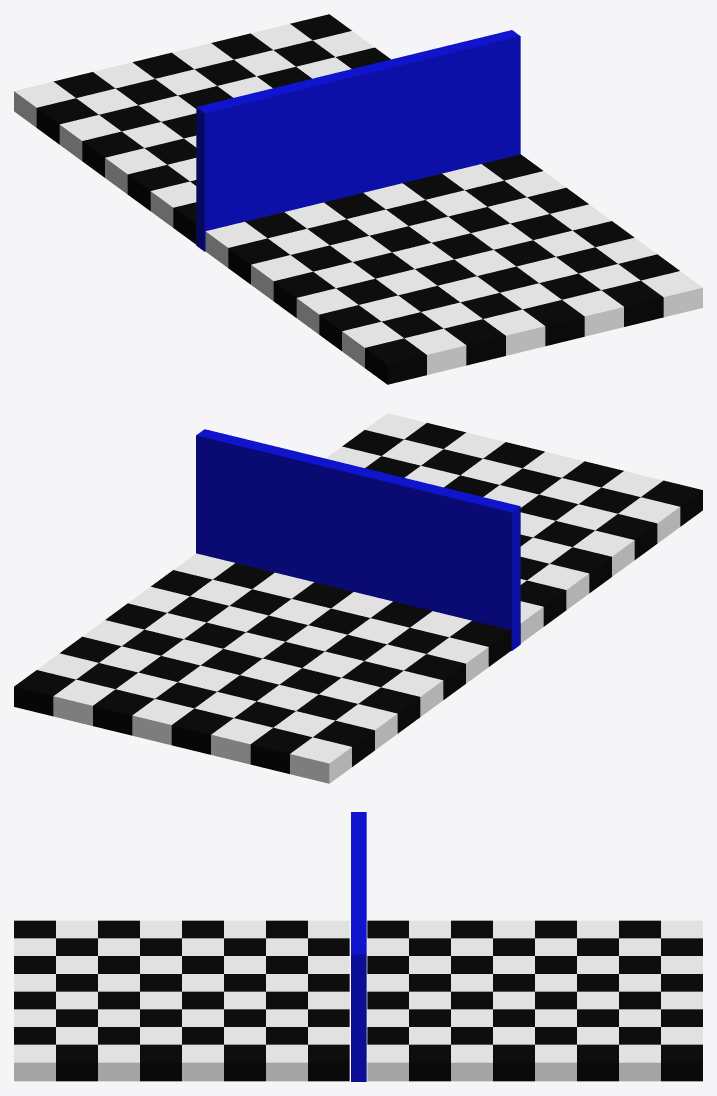
Rendered from CheessBoard.fbx.
3 views of the same model, one above another, from view 1: azimuth 30°, elevation 25°; view 2: azimuth 150°, elevation 25°; view 3: azimuth 270°, elevation 25° (orthographic). The views are drawn at different scales.
Parts seen in each view (by area): view 1: Wall, Tile, Tile.005, Tile.006, Tile.002, Tile.001, Tile.007, Tile.003, Tile.004, Tile.010, Tile.011, Tile.014 (+84 smaller); view 2: Wall, Tile.022, Tile.097, Tile.112, Tile.052, Tile.037, Tile.067, Tile.127, Tile.082, Tile.008, Tile.015, Tile.018 (+84 smaller); view 3: Wall, Tile.007, Tile.113, Tile.114, Tile.115, Tile.116, Tile.117, Tile.118, Tile.119, Tile.120, Tile.121, Tile.122 (+117 smaller).
Part boxes in pixels (x1=…): Wall: x1=196, y1=30, x2=520, y2=251; Tile: x1=365, y1=338, x2=426, y2=384; Tile.005: x1=562, y1=290, x2=623, y2=336; Tile.006: x1=601, y1=280, x2=663, y2=326; Tile.002: x1=444, y1=319, x2=505, y2=365; Tile.001: x1=405, y1=328, x2=466, y2=374; Tile.007: x1=641, y1=271, x2=702, y2=317; Tile.003: x1=483, y1=309, x2=545, y2=355; Tile.004: x1=523, y1=300, x2=584, y2=346; Tile.010: x1=296, y1=288, x2=358, y2=334; Tile.011: x1=273, y1=272, x2=335, y2=317; Tile.014: x1=205, y1=221, x2=266, y2=267; Wall: x1=196, y1=429, x2=520, y2=650; Tile.022: x1=290, y1=737, x2=351, y2=783; Tile.097: x1=93, y1=689, x2=154, y2=735; Tile.112: x1=53, y1=679, x2=115, y2=725; Tile.052: x1=211, y1=718, x2=272, y2=764; Tile.037: x1=250, y1=727, x2=311, y2=773; Tile.067: x1=171, y1=708, x2=233, y2=754; Tile.127: x1=14, y1=670, x2=75, y2=716; Tile.082: x1=132, y1=699, x2=193, y2=745; Tile.008: x1=618, y1=497, x2=680, y2=543; Tile.015: x1=450, y1=620, x2=511, y2=666; Tile.018: x1=381, y1=671, x2=443, y2=716; Wall: x1=351, y1=812, x2=366, y2=1081; Tile.007: x1=14, y1=1044, x2=55, y2=1081; Tile.113: x1=56, y1=1044, x2=97, y2=1081; Tile.114: x1=98, y1=1044, x2=139, y2=1081; Tile.115: x1=140, y1=1044, x2=181, y2=1081; Tile.116: x1=182, y1=1044, x2=223, y2=1081; Tile.117: x1=224, y1=1044, x2=265, y2=1081; Tile.118: x1=266, y1=1044, x2=307, y2=1081; Tile.119: x1=308, y1=1044, x2=349, y2=1081; Tile.120: x1=367, y1=1044, x2=408, y2=1081; Tile.121: x1=409, y1=1044, x2=450, y2=1081; Tile.122: x1=451, y1=1044, x2=492, y2=1081.
Bounding box in the file's own units: 8.01 × 3.36 × 16.41.
